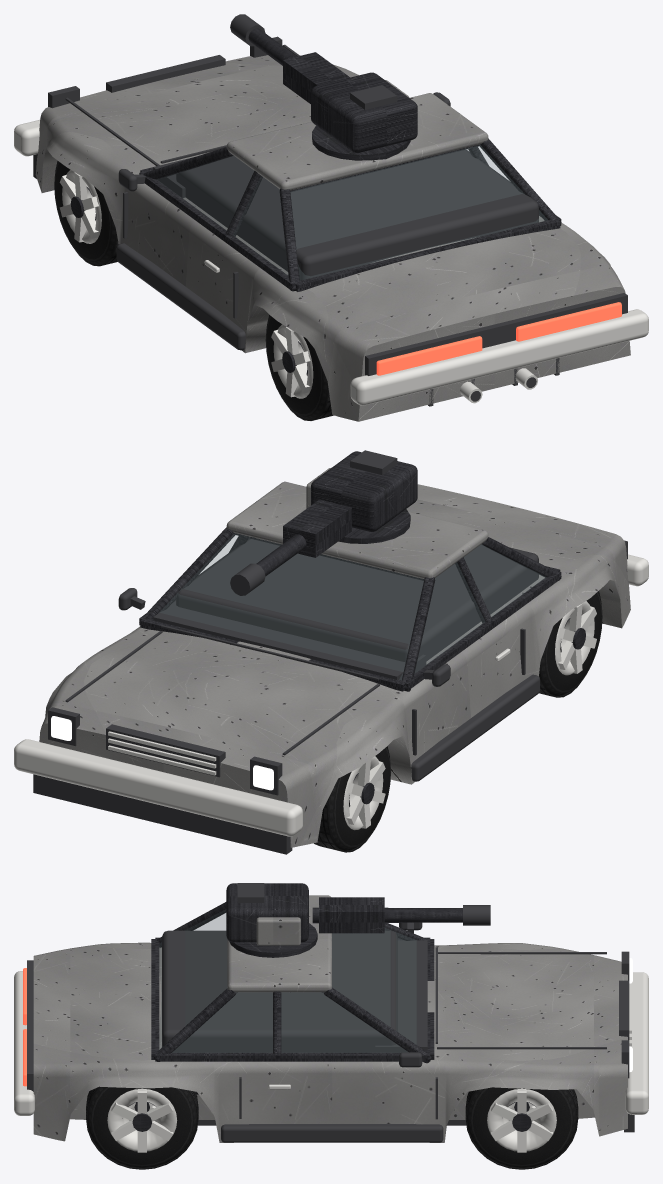
The model's file is enemy_raider_a.glb.
The picture shows the model from 3 angles, top to bottom: view 1: azimuth 30°, elevation 25°; view 2: azimuth 150°, elevation 25°; view 3: azimuth 270°, elevation 25°; orthographic projection. The views are drawn at different scales.
Visible parts, largest first — view 1: raiderA_Body, Turret, Wheel_RL, Wheel_FL, Barrel; view 2: raiderA_Body, Turret, Wheel_FL, Wheel_RL, Barrel; view 3: raiderA_Body, Wheel_RR, Wheel_FR, Turret, Barrel.
Part boxes in pixels (x1=…): raiderA_Body: x1=14, y1=36, x2=648, y2=421; Turret: x1=311, y1=72, x2=417, y2=160; Wheel_RL: x1=265, y1=315, x2=333, y2=420; Wheel_FL: x1=54, y1=161, x2=118, y2=266; Barrel: x1=230, y1=14, x2=349, y2=103; raiderA_Body: x1=14, y1=481, x2=648, y2=854; Turret: x1=306, y1=450, x2=417, y2=543; Wheel_FL: x1=314, y1=746, x2=390, y2=852; Wheel_RL: x1=539, y1=591, x2=602, y2=697; Barrel: x1=230, y1=499, x2=351, y2=595; raiderA_Body: x1=14, y1=895, x2=648, y2=1142; Wheel_RR: x1=86, y1=1086, x2=198, y2=1169; Wheel_FR: x1=465, y1=1087, x2=578, y2=1169; Turret: x1=226, y1=883, x2=317, y2=957; Barrel: x1=312, y1=897, x2=490, y2=933.
Size of what is drawn, in the model's own units: 2.55 by 1.85 by 4.85.
8 materials, 3 textured.
